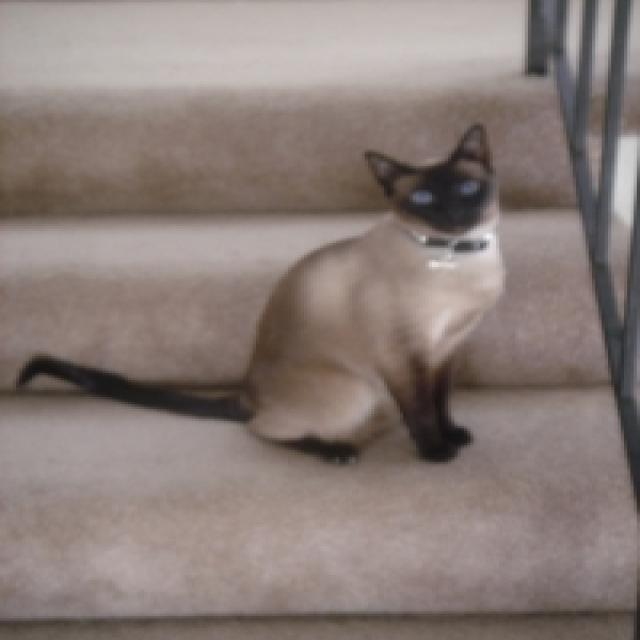Siamese: (365, 119, 514, 244)
